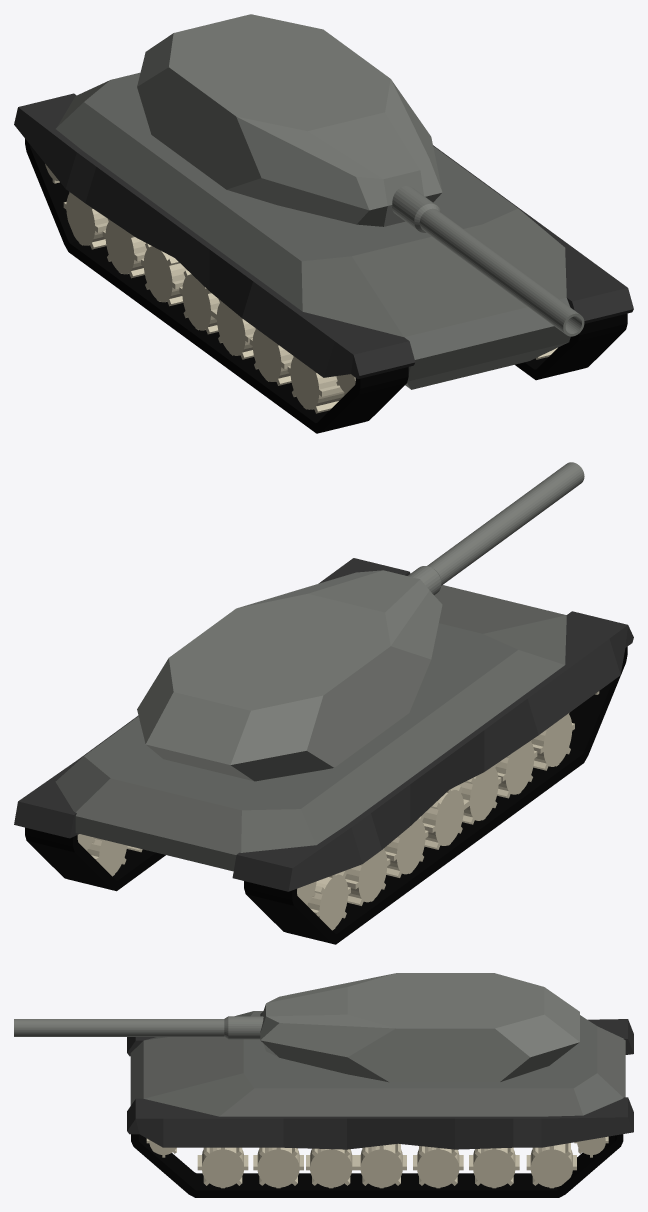
File: Tank.fbx
3 views of the same model, one above another, from view 1: azimuth 30°, elevation 25°; view 2: azimuth 150°, elevation 25°; view 3: azimuth 270°, elevation 25° (orthographic). The views are drawn at different scales.
Parts seen in each view (by area): view 1: Body, Head, Left Side Frame, Tire.002, Right Side Frame, Tire, Wheel2.002, Wheel6.002, Wheel7.002, Wheel5.002, Wheel8.002, Wheel3.002 (+1 smaller); view 2: Head, Body, Left Side Frame, Tire.002, Tire, Right Side Frame, Wheel5.002, Wheel6.002, Wheel7.002, Wheel8.002, Wheel4.002, Wheel2.002 (+2 smaller); view 3: Head, Body, Right Side Frame, Tire, Wheel5, Wheel8, Wheel2, Wheel3, Wheel6, Wheel7, Wheel4, Left Side Frame (+1 smaller).
Part boxes in pixels (box(x1,y1,x2,y2)): Body: box(56, 72, 570, 389); Head: box(137, 14, 584, 336); Left Side Frame: box(14, 93, 415, 378); Tire.002: box(25, 139, 408, 433); Right Side Frame: box(433, 145, 633, 323); Tire: box(515, 313, 627, 380); Wheel2.002: box(287, 356, 344, 413); Wheel6.002: box(141, 243, 186, 306); Wheel7.002: box(102, 219, 146, 278); Wheel5.002: box(179, 270, 219, 334); Wheel8.002: box(63, 192, 108, 249); Wheel3.002: box(249, 328, 293, 385); Head: box(137, 462, 584, 781); Body: box(55, 585, 566, 871); Left Side Frame: box(232, 611, 633, 891); Tire.002: box(244, 646, 627, 944); Tire: box(25, 827, 165, 891); Right Side Frame: box(14, 558, 410, 838); Wheel5.002: box(422, 785, 466, 849); Wheel6.002: box(384, 815, 428, 877); Wheel7.002: box(345, 848, 390, 905); Wheel8.002: box(307, 871, 350, 930); Wheel4.002: box(458, 764, 501, 824); Wheel2.002: box(531, 713, 574, 770); Head: box(14, 973, 579, 1082); Body: box(130, 1011, 625, 1116); Right Side Frame: box(127, 1097, 633, 1149); Tire: box(131, 1134, 623, 1197); Wheel5: box(356, 1143, 406, 1188); Wheel8: box(526, 1143, 576, 1188); Wheel2: box(197, 1147, 248, 1188); Wheel3: box(253, 1147, 303, 1188); Wheel6: box(413, 1146, 463, 1188); Wheel7: box(469, 1147, 519, 1188); Wheel4: box(306, 1148, 356, 1188); Left Side Frame: box(127, 1019, 633, 1056).
Size of the model in its own units: 1212 by 2987 by 793.
